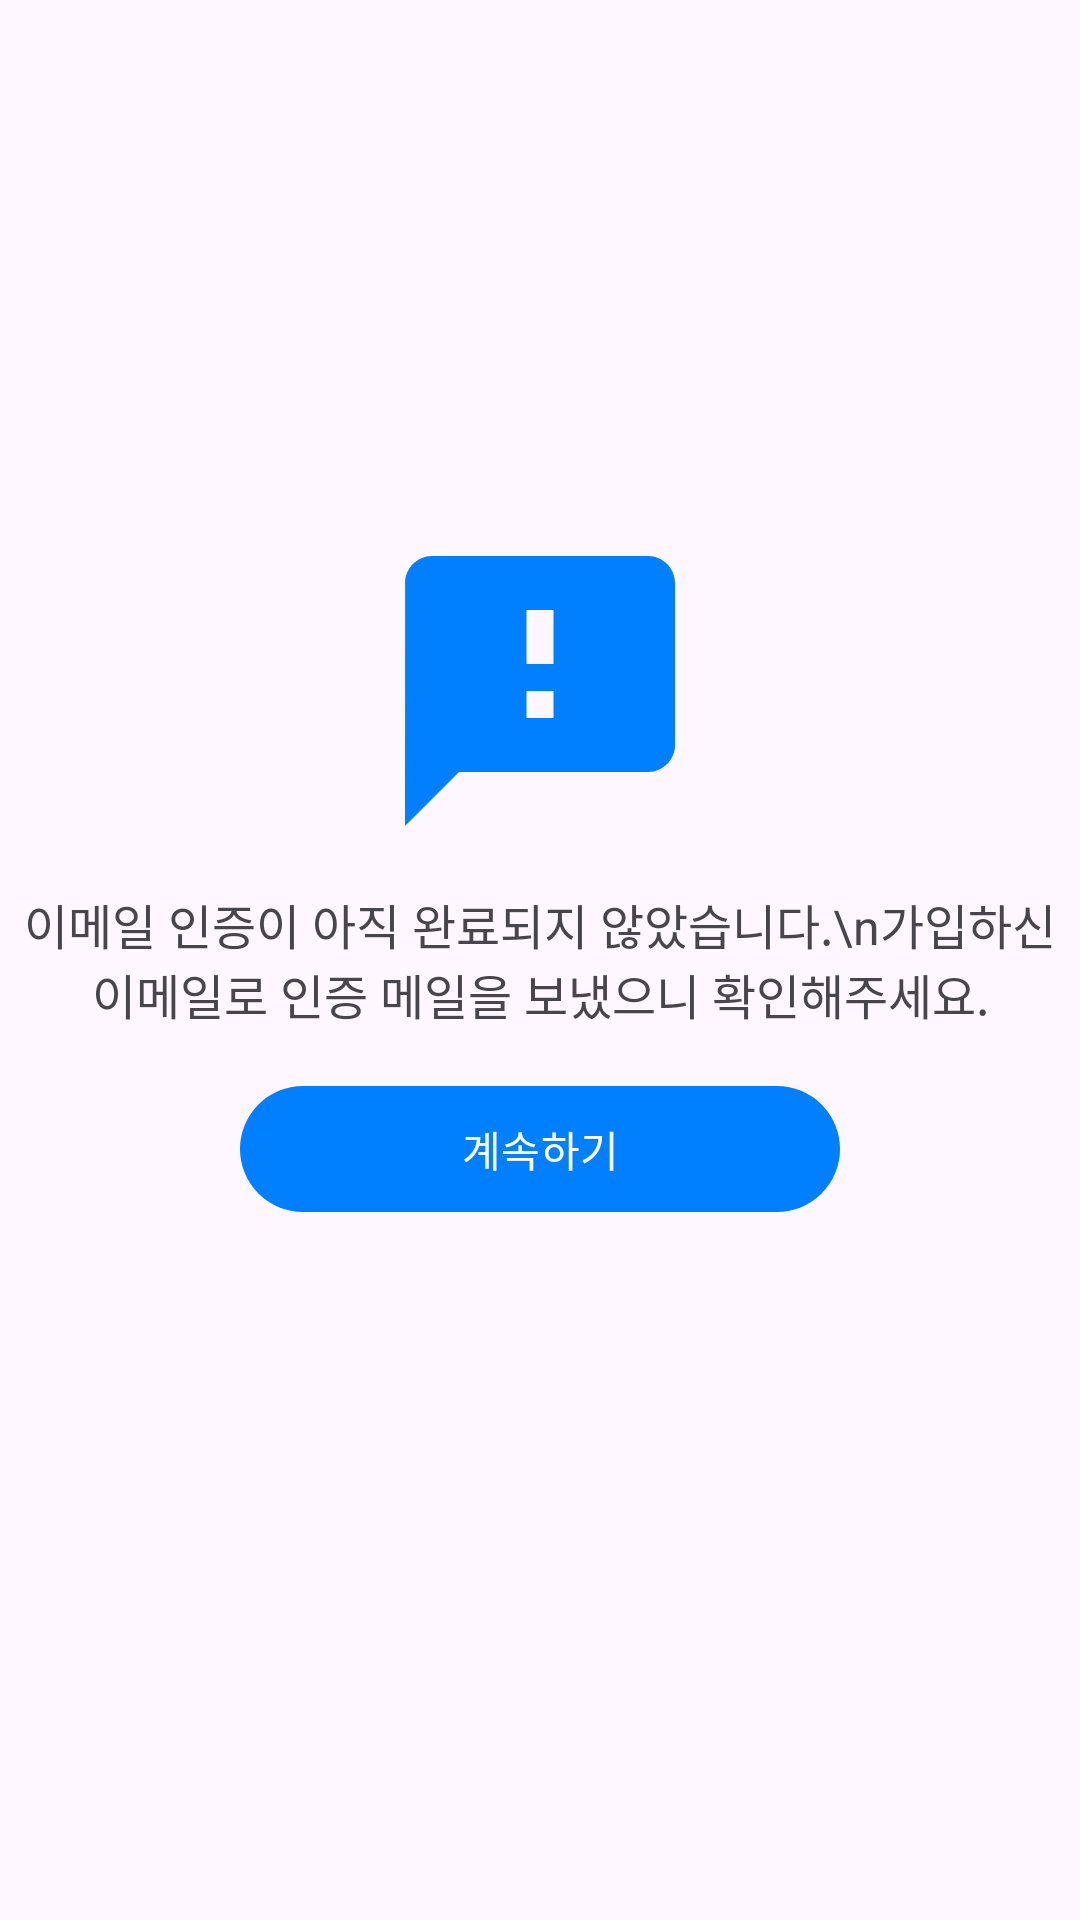

Icons on this 1080x1920 Android screen, each with the point to tap as point (x, y):
sms failed: point (540, 691)
